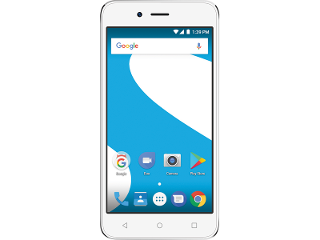phone: (97, 1, 222, 239)
